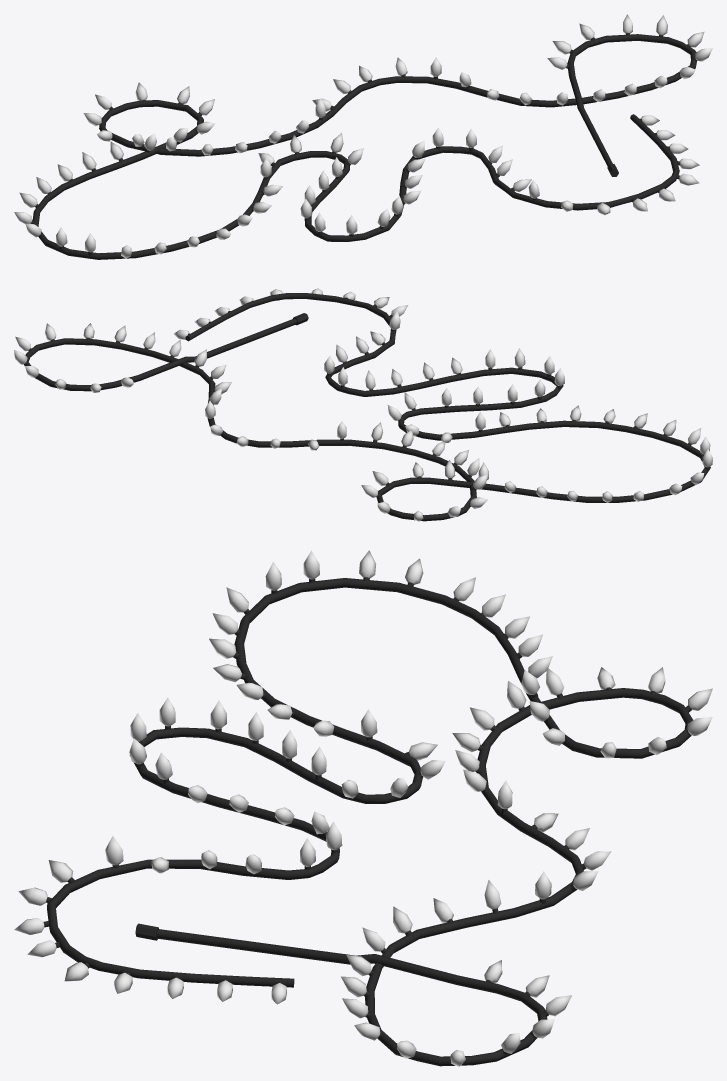
The model's file is ChristmasChainLight_03.fbx.
The picture shows the model from 3 angles, top to bottom: view 1: azimuth 30°, elevation 25°; view 2: azimuth 150°, elevation 25°; view 3: azimuth 270°, elevation 25°; orthographic projection. The views are drawn at different scales.
Visible parts, largest first — view 1: ChristmasChainLight_03; view 2: ChristmasChainLight_03; view 3: ChristmasChainLight_03.
Part boxes in pixels (x1,y1,x2,y2): ChristmasChainLight_03: (14,14,712,259); ChristmasChainLight_03: (14,288,712,521); ChristmasChainLight_03: (14,550,712,1066).
Size of the model in its own units: 2.42 by 0.1042 by 1.43.
